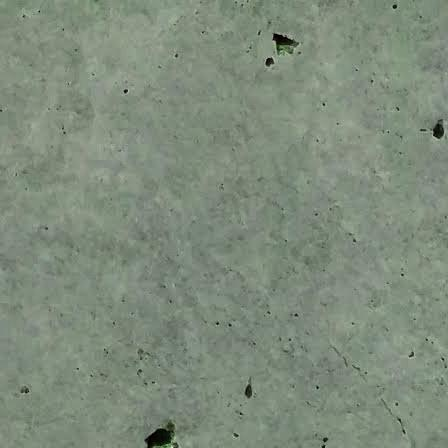spalling: (264, 27, 302, 63), (432, 118, 446, 141), (263, 56, 276, 69)
